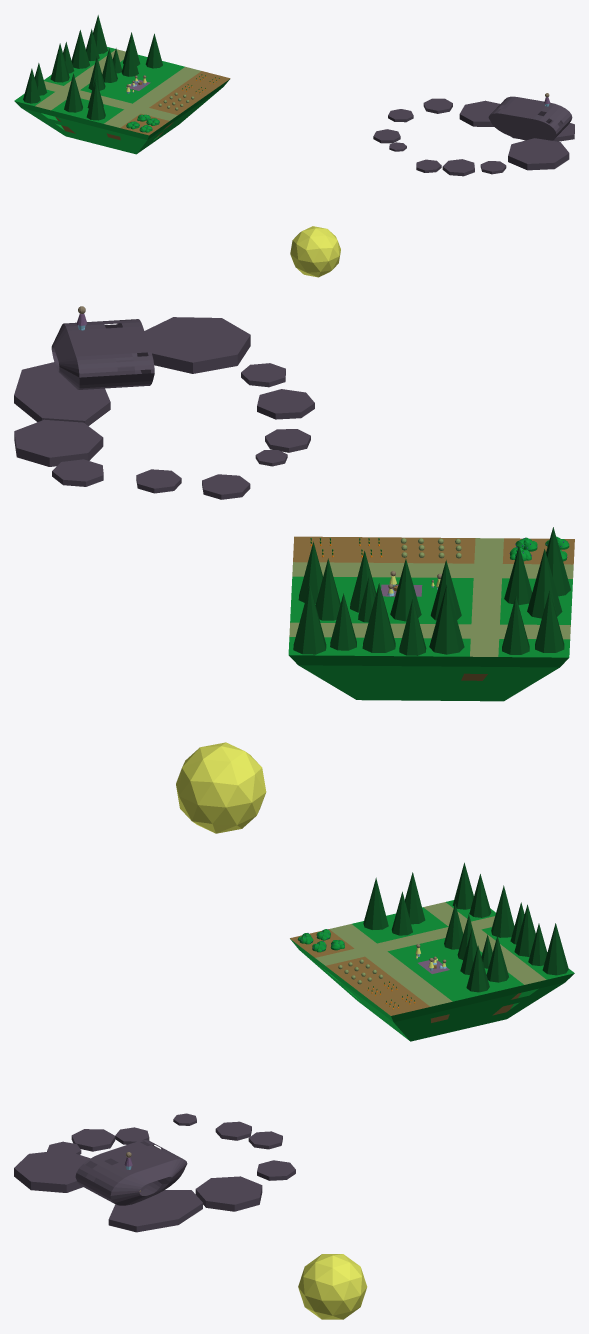
The model's file is project3.lesslight.gltf.
The picture shows the model from 3 angles, top to bottom: view 1: azimuth 30°, elevation 25°; view 2: azimuth 150°, elevation 25°; view 3: azimuth 270°, elevation 25°; orthographic projection. The views are drawn at different scales.
Visible parts, largest first — view 1: island, Cube, sun, Cylinder.013, Cylinder.008, Cylinder.012, Cone.007, Cone.005, Cone, Cone.008, Cylinder.009, Cone.001 (+2 smaller); view 2: island, sun, Cube, Cylinder.013, Cylinder.007, Cylinder.008, Cylinder.012, Cone.007, Cone.010, Cone.008, Cylinder.009, Cone (+15 smaller); view 3: island, Cube, sun, Cylinder.007, Cylinder.013, Cylinder.008, Cylinder.012, Cone.010, Cone.005, Cone.007, Cylinder.009, Cone.008 (+4 smaller).
Part boxes in pixels (x1,y1,x2,y2): island: [14, 47, 230, 154]; Cube: [488, 96, 572, 140]; sun: [290, 226, 340, 277]; Cylinder.013: [508, 138, 569, 170]; Cylinder.008: [459, 100, 499, 126]; Cylinder.012: [442, 159, 474, 176]; Cone.007: [50, 43, 69, 82]; Cone.005: [86, 81, 105, 120]; Cone: [64, 73, 82, 112]; Cone.008: [71, 30, 89, 68]; Cylinder.009: [423, 98, 452, 113]; Cone.001: [23, 68, 40, 103]; island: [288, 536, 574, 701]; sun: [176, 742, 266, 833]; Cube: [51, 319, 154, 389]; Cylinder.013: [144, 317, 250, 373]; Cylinder.007: [14, 362, 110, 425]; Cylinder.008: [14, 419, 103, 466]; Cylinder.012: [257, 389, 314, 419]; Cone.007: [429, 584, 464, 654]; Cone.010: [293, 584, 326, 654]; Cone.008: [362, 583, 395, 652]; Cylinder.009: [52, 459, 103, 486]; Cone: [527, 549, 562, 618]; island: [290, 900, 574, 1041]; Cube: [75, 1140, 187, 1205]; sun: [298, 1254, 367, 1319]; Cylinder.007: [108, 1190, 202, 1232]; Cylinder.013: [14, 1150, 90, 1192]; Cylinder.008: [195, 1176, 262, 1211]; Cylinder.012: [71, 1129, 115, 1151]; Cone.010: [542, 923, 568, 975]; Cone.005: [363, 877, 388, 929]; Cone.007: [491, 885, 514, 937]; Cylinder.009: [257, 1160, 295, 1180]; Cone.008: [514, 904, 535, 956].
Size of the model in its own units: 76.66 by 39.15 by 64.42.
